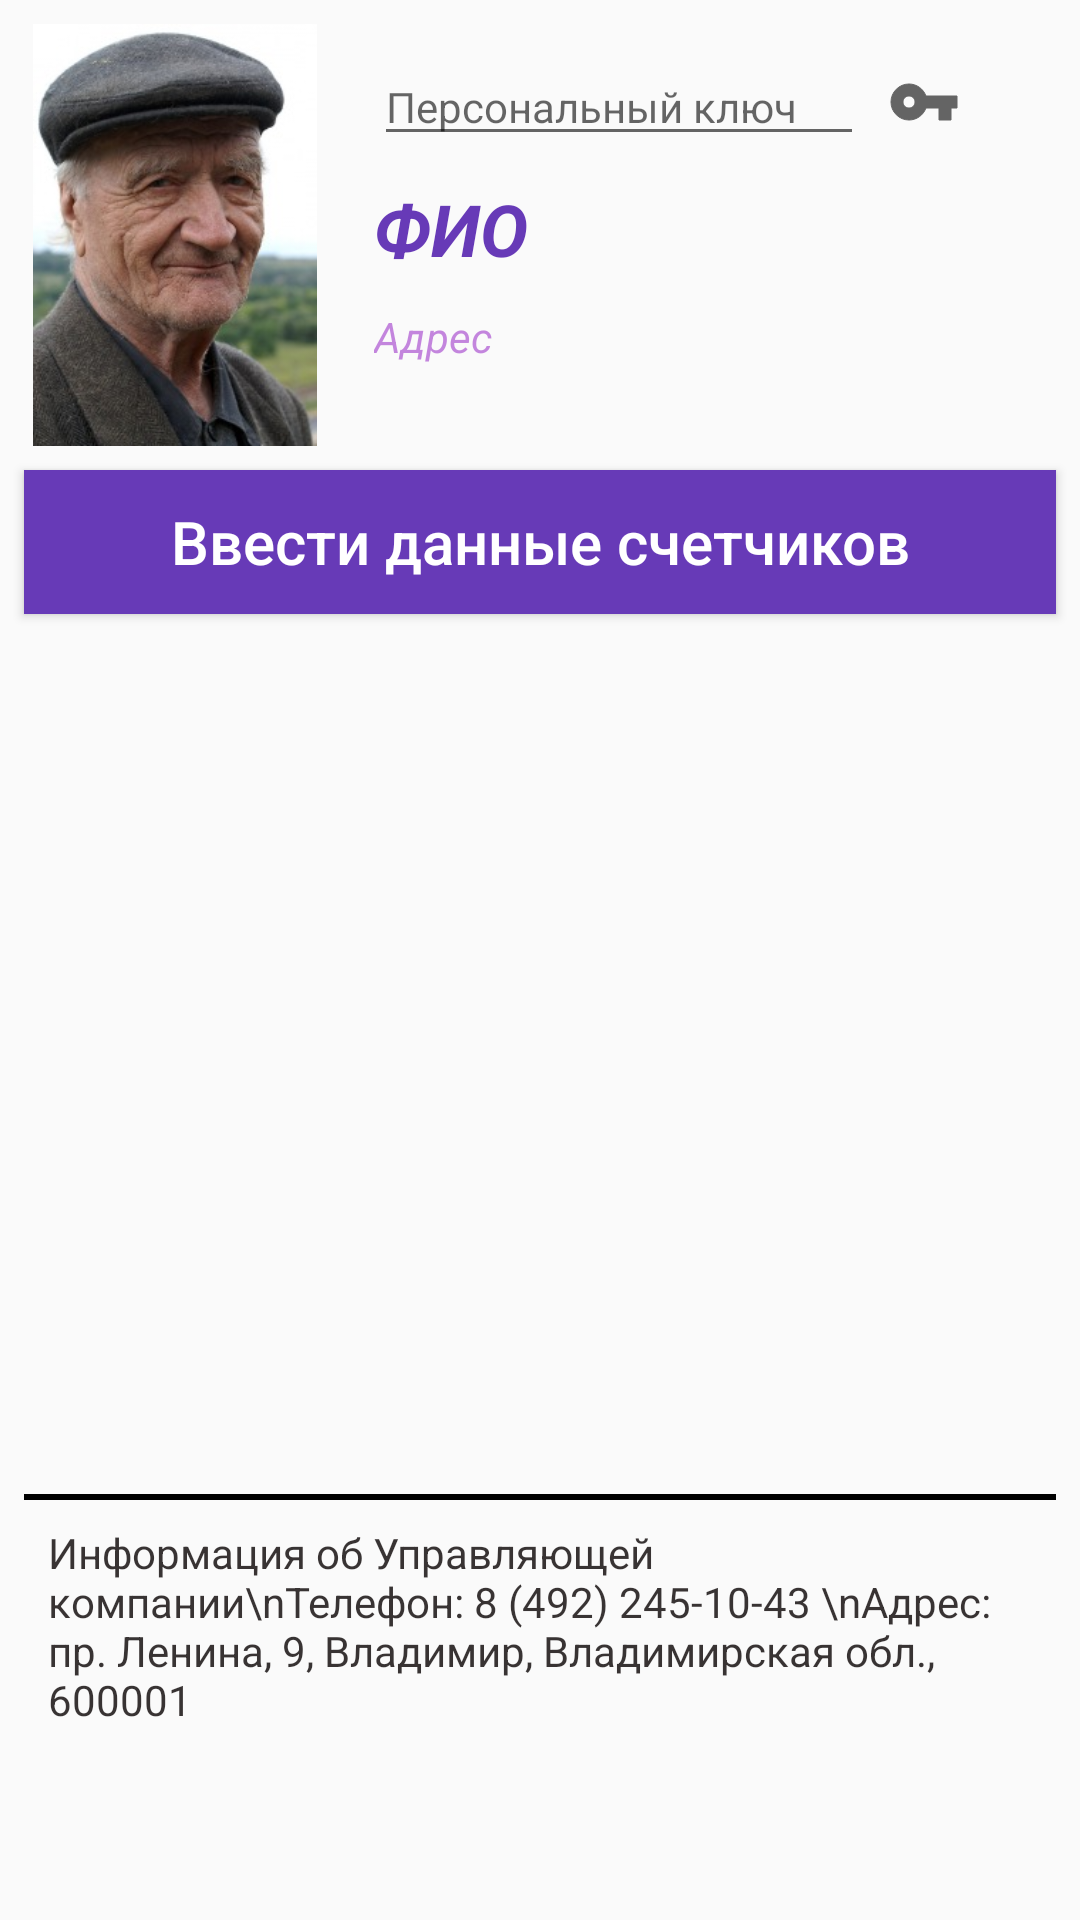

Named icons in this screenshot (1080×1920) and their bounding boxes, (x1, y1, x2, y2):
vpn key: (890, 83, 958, 121)
